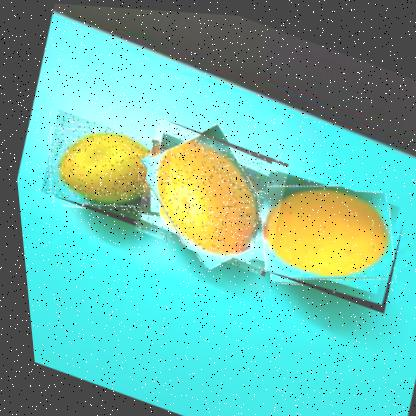orange: (121, 113, 295, 276), (236, 156, 411, 311), (30, 107, 177, 233)
